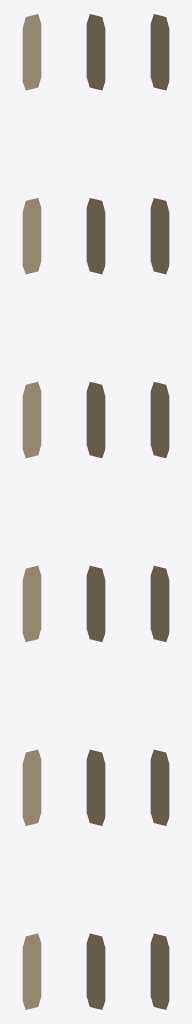
Rendered from 156_valiviiva_012.gltf.
3 views of the same model, side by side, from view 1: azimuth 30°, elevation 25°; view 2: azimuth 150°, elevation 25°; view 3: azimuth 330°, elevation 25° (orthographic).
Visible parts, largest first — view 1: valiviiva_012; view 2: valiviiva_012; view 3: valiviiva_012.
Part boxes in pixels (x1=…): valiviiva_012: x1=22, y1=14, x2=41, y2=1009; valiviiva_012: x1=86, y1=14, x2=105, y2=1009; valiviiva_012: x1=150, y1=14, x2=169, y2=1009.
Bounding box in the file's own units: 0.7118 × 36.76 × 0.
1 material, 1 textured.
